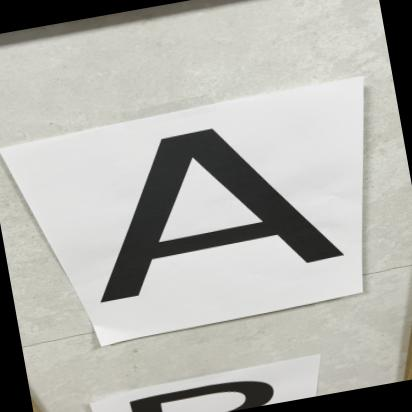seat: (34, 93, 361, 338)
